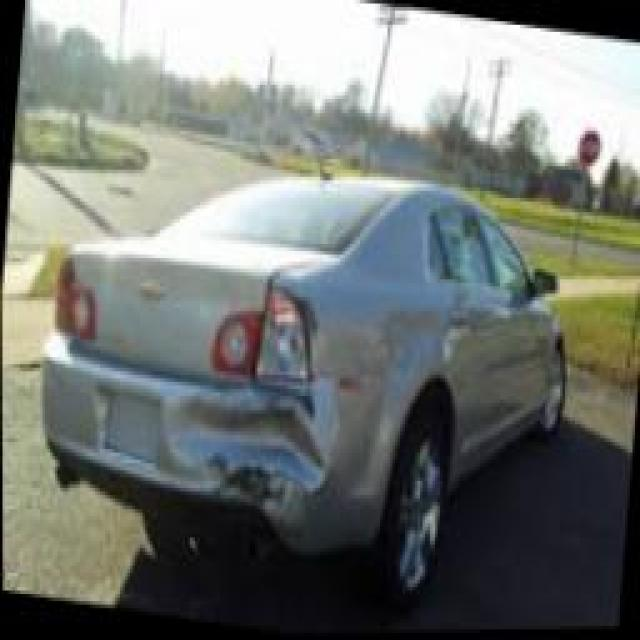Bumper: (172, 374, 357, 558)
